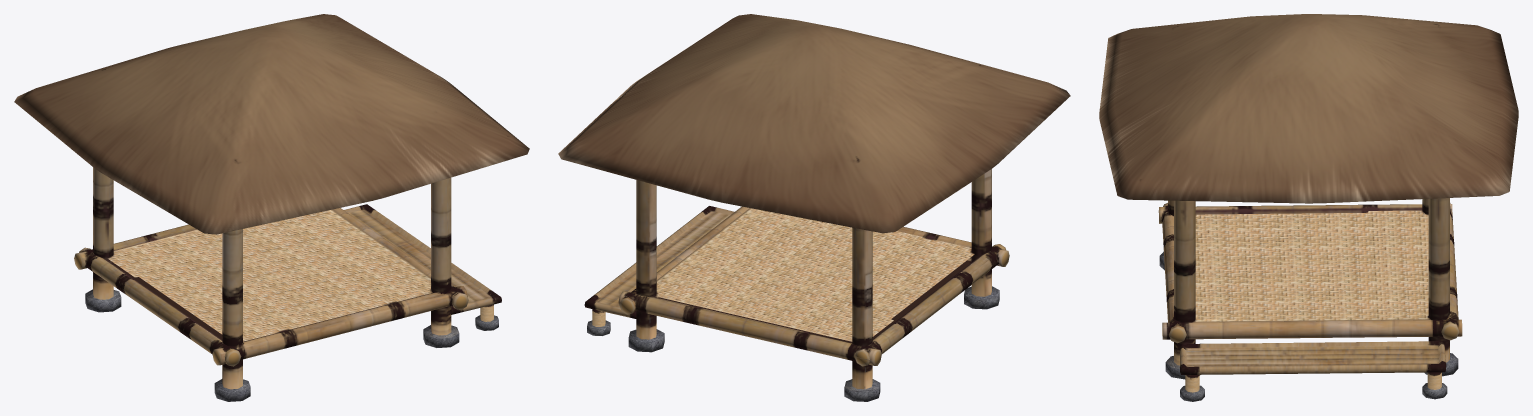
File: ronda.fbx
The picture shows the model from 3 angles, left to right: view 1: azimuth 30°, elevation 25°; view 2: azimuth 150°, elevation 25°; view 3: azimuth 270°, elevation 25°; orthographic projection. The views are drawn at different scales.
Visible parts, largest first — view 1: gazebo; view 2: gazebo; view 3: gazebo.
Boxes of the visible parts, bbox=[...] form: gazebo: bbox=[14, 14, 529, 401]; gazebo: bbox=[558, 14, 1070, 401]; gazebo: bbox=[1099, 14, 1518, 401].
Size of the model in its own units: 1873 by 1462 by 1873.
Materials: 1 (1 with a texture image).
